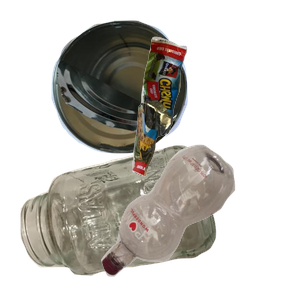glass: (18, 143, 227, 300)
metal: (49, 18, 229, 164)
plastic: (99, 142, 300, 300)
trash: (130, 34, 300, 203)
